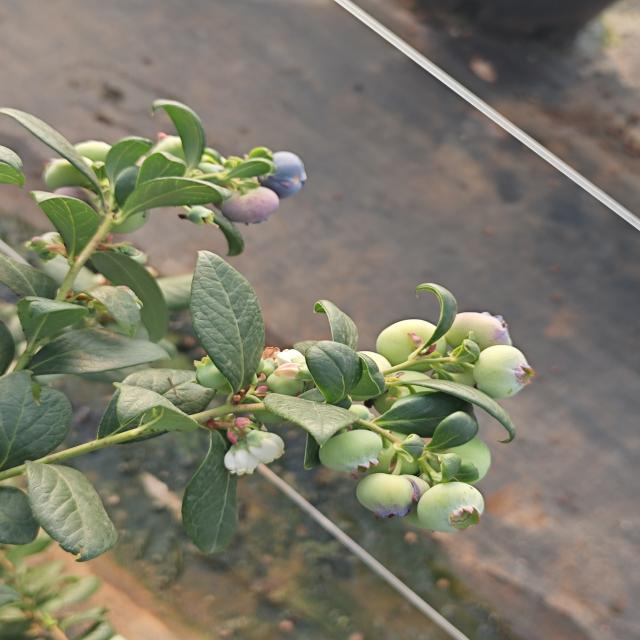ripe: (252, 149, 312, 200)
